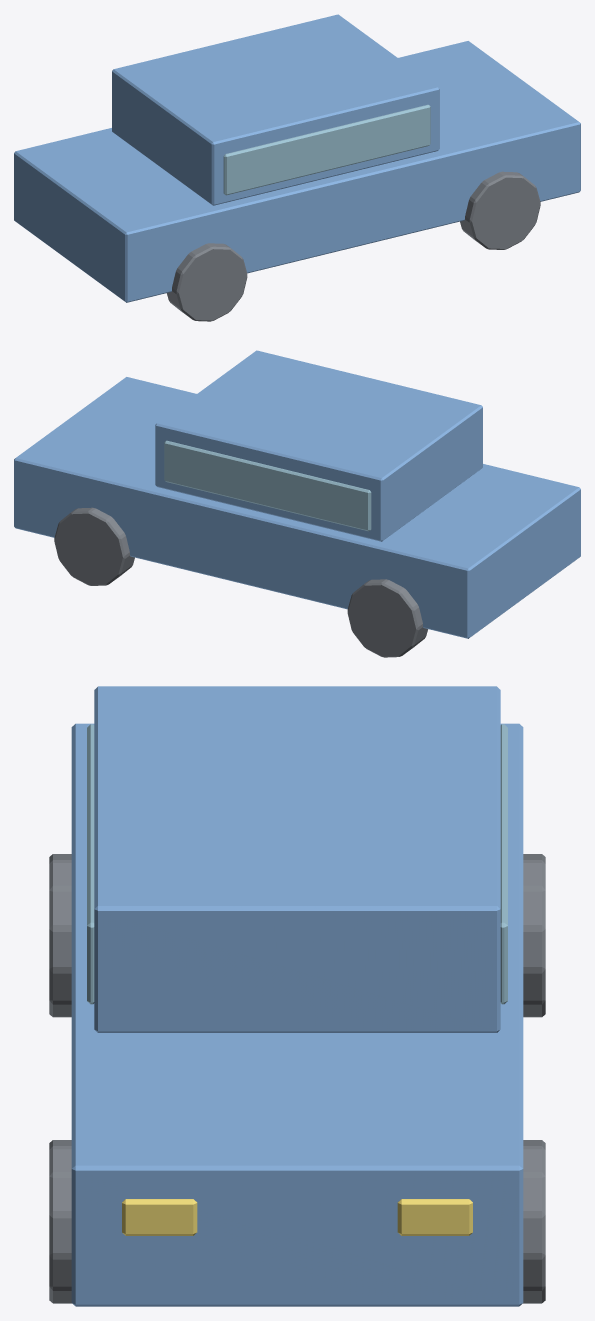
The model's file is 车_小轿车_01.fbx.
3 renders of one model, top to bottom at view 1: azimuth 30°, elevation 25°; view 2: azimuth 150°, elevation 25°; view 3: azimuth 270°, elevation 25°, orthographic. The views are drawn at different scales.
Visible parts, largest first — view 1: 车身, 车顶, 车轮.002, 车窗; view 2: 车身, 车顶, 车轮.002, 车窗; view 3: 车顶, 车身, 车轮.002, 车灯, 车窗.
Part boxes in pixels (left/top/right/bottom): 车身: left=14, top=41, right=580, bottom=302; 车顶: left=112, top=14, right=439, bottom=205; 车轮.002: left=167, top=171, right=540, bottom=321; 车窗: left=223, top=104, right=430, bottom=195; 车身: left=14, top=377, right=580, bottom=638; 车顶: left=155, top=350, right=482, bottom=541; 车轮.002: left=54, top=507, right=427, bottom=657; 车窗: left=164, top=440, right=371, bottom=531; 车顶: left=94, top=686, right=500, bottom=1032; 车身: left=71, top=723, right=523, bottom=1306; 车轮.002: left=49, top=854, right=545, bottom=1303; 车灯: left=122, top=1199, right=472, bottom=1235; 车窗: left=87, top=724, right=507, bottom=1004.
Size of the model in its own units: 422 by 148 by 198.
